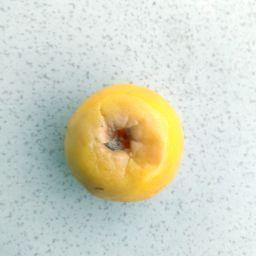Unripe: (63, 85, 185, 202)
